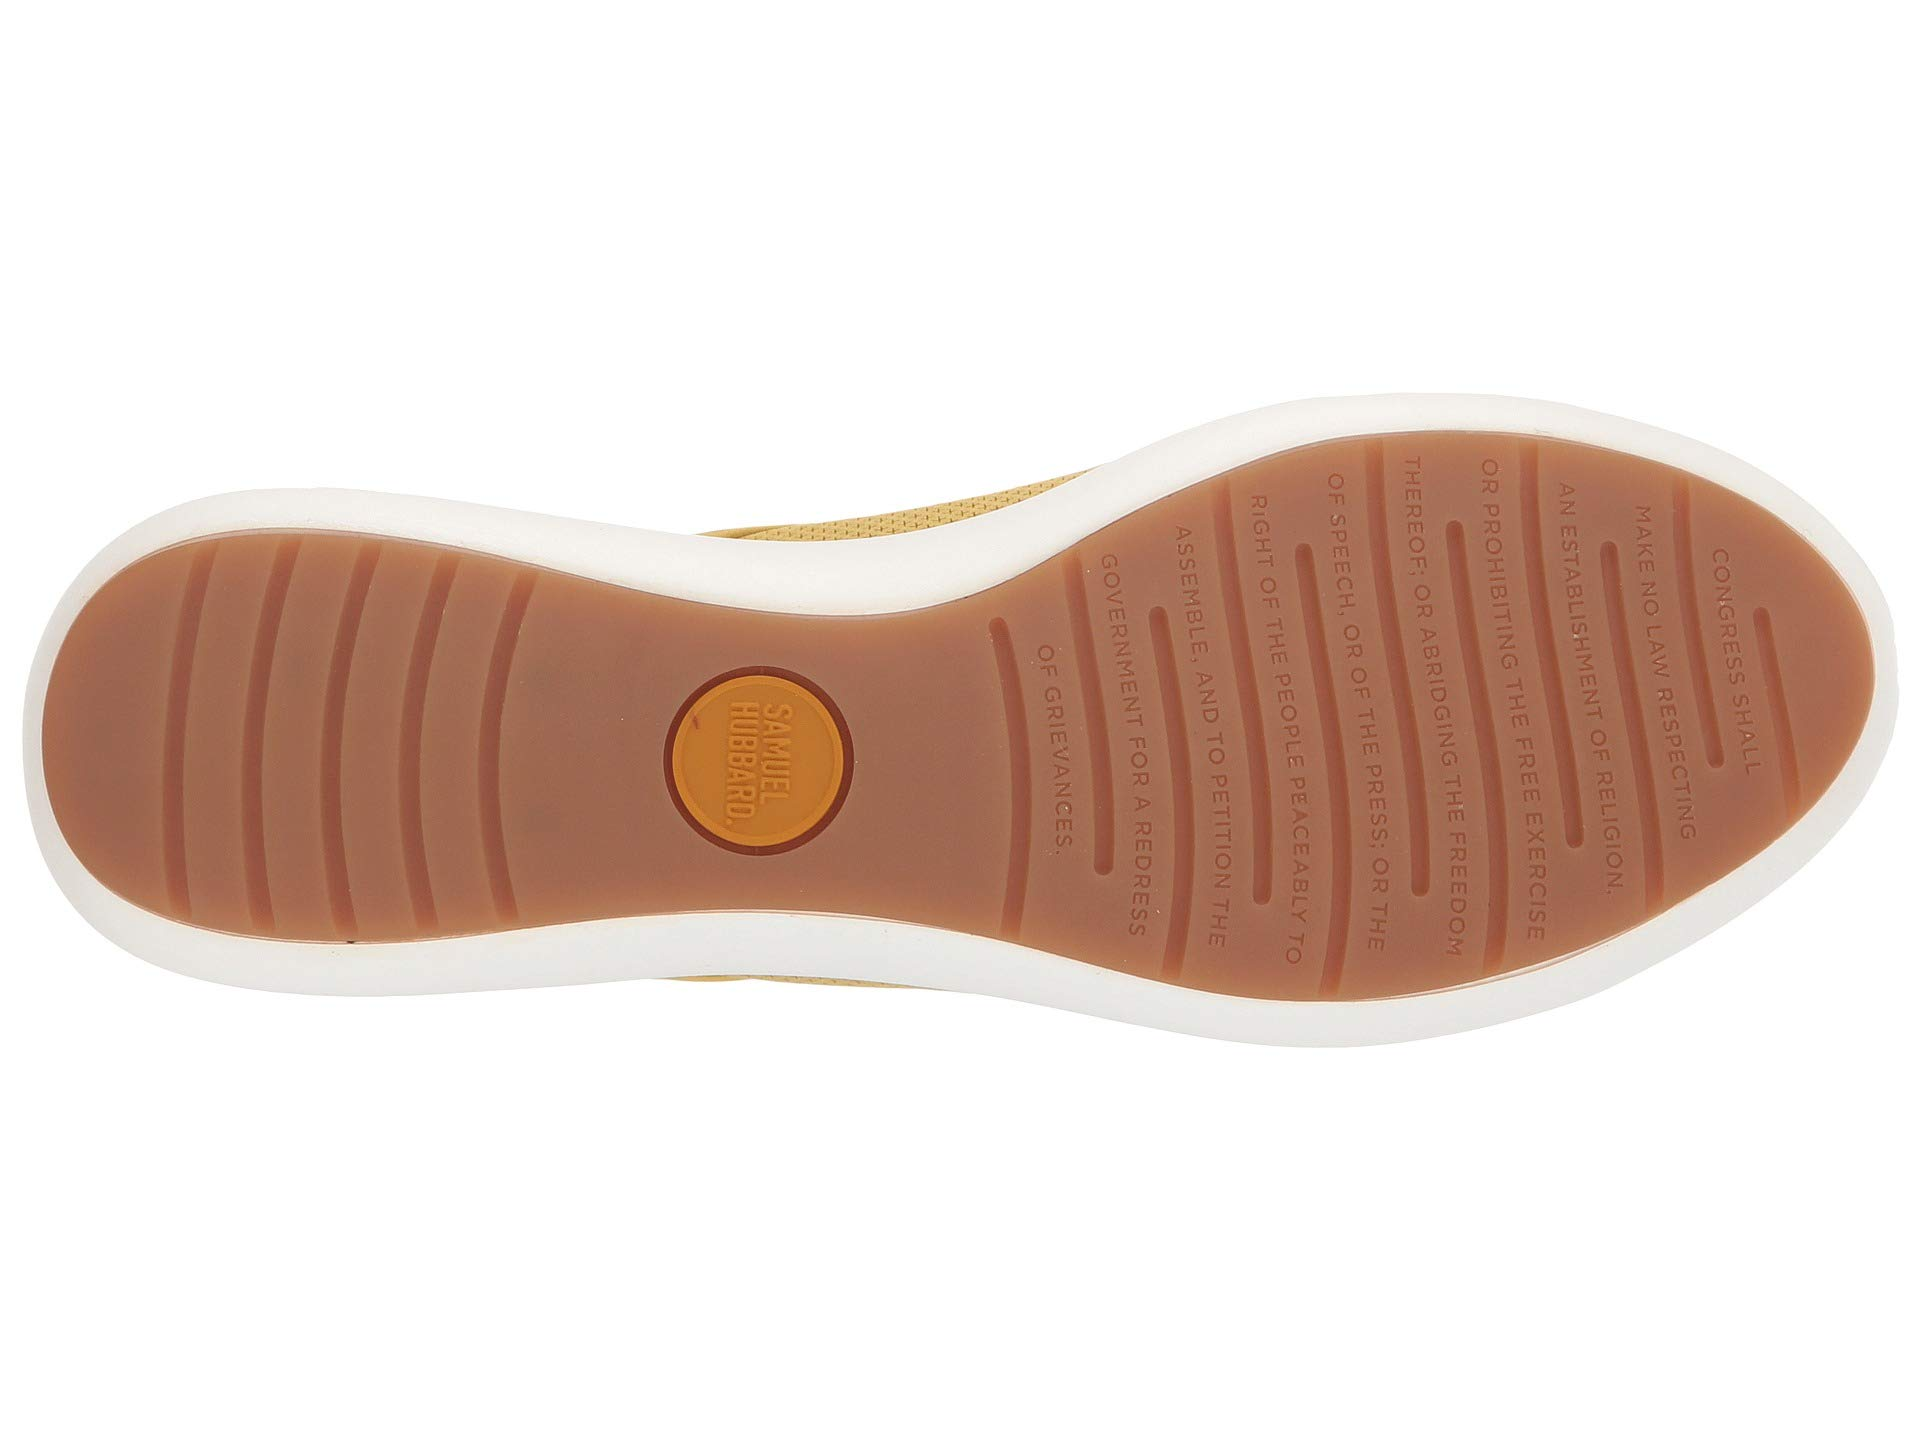circle: (623, 643, 895, 892)
text: (623, 643, 895, 892)
